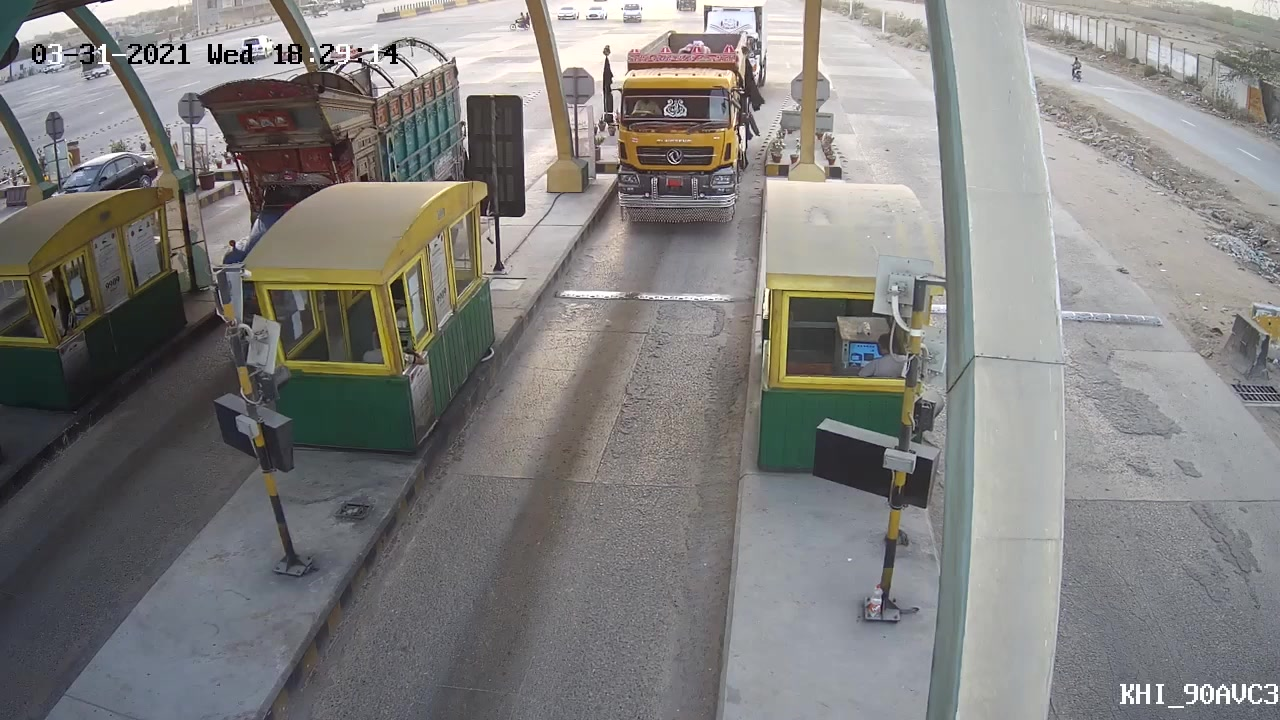F6: (588, 24, 769, 228)
